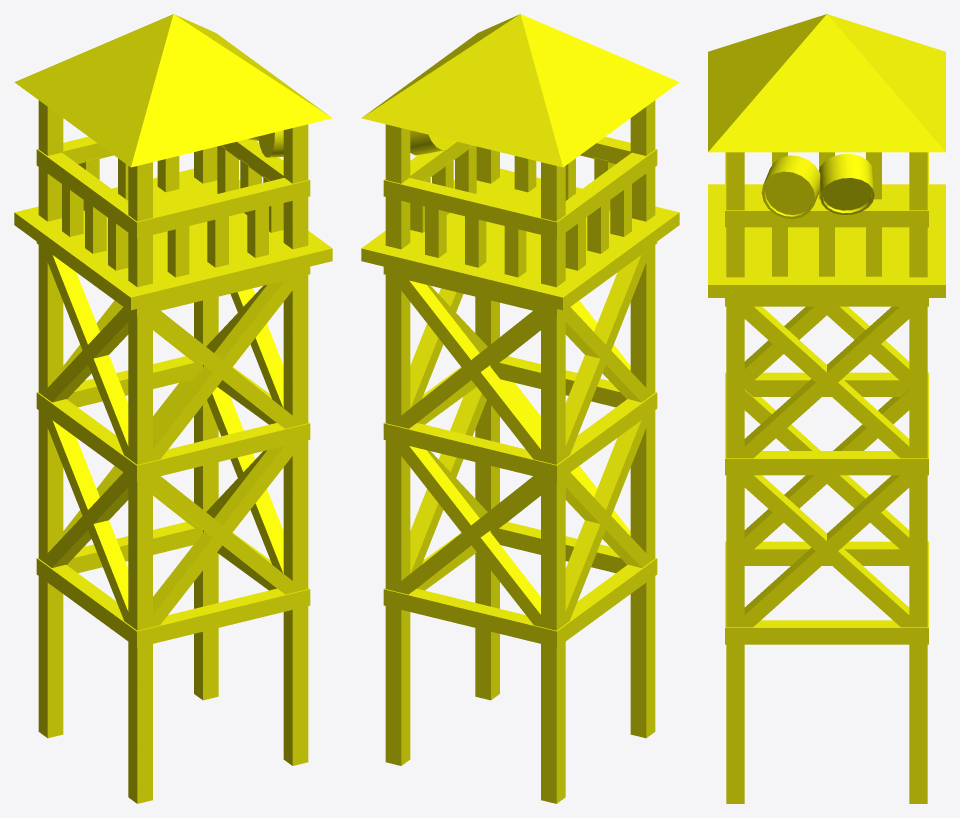
The picture shows the model from 3 angles, left to right: view 1: azimuth 30°, elevation 25°; view 2: azimuth 150°, elevation 25°; view 3: azimuth 270°, elevation 25°; orthographic projection.
Parts seen in each view (by area): view 1: military_turret; view 2: military_turret; view 3: military_turret.
Boxes of the visible parts, <box> form: military_turret: <box>14,14,332,803</box>; military_turret: <box>361,14,679,803</box>; military_turret: <box>708,14,945,803</box>.
Bounding box in the file's own units: 0.0164 × 0.0546 × 0.0157.
1 material, 1 textured.
